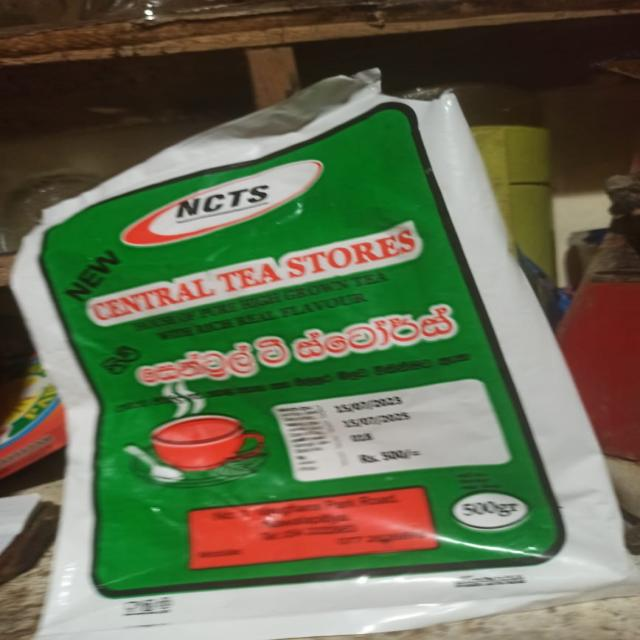Central Tea: (14, 201, 560, 640)
